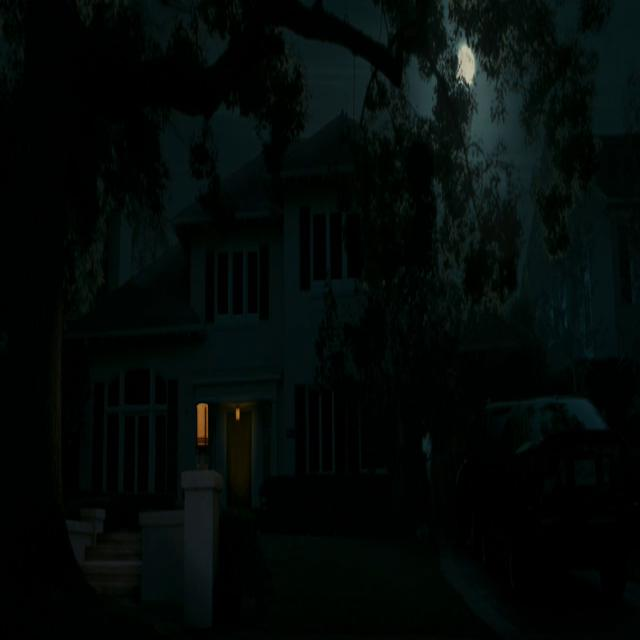Car: (479, 396, 640, 640)
